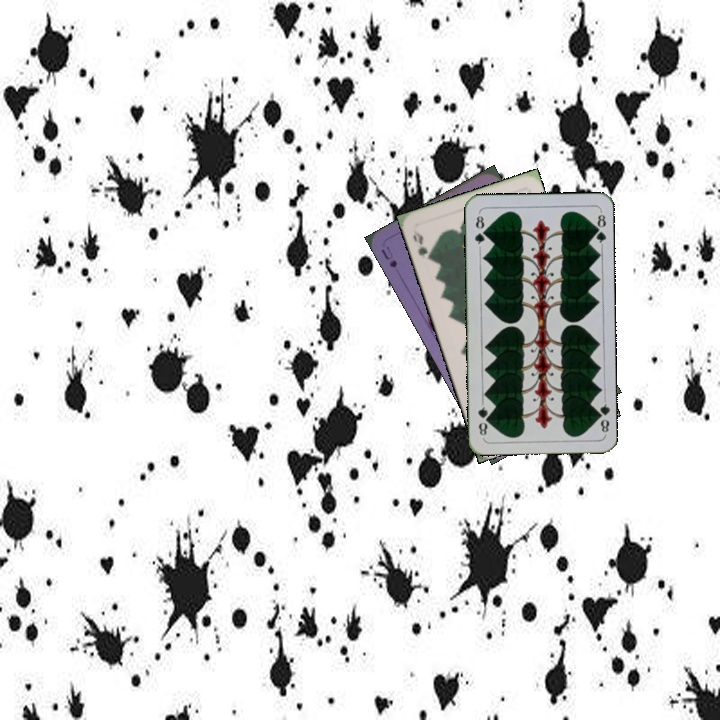G8: (592, 396, 612, 437), (470, 209, 488, 250)
G9: (409, 225, 435, 263)
SU: (377, 242, 400, 270)
